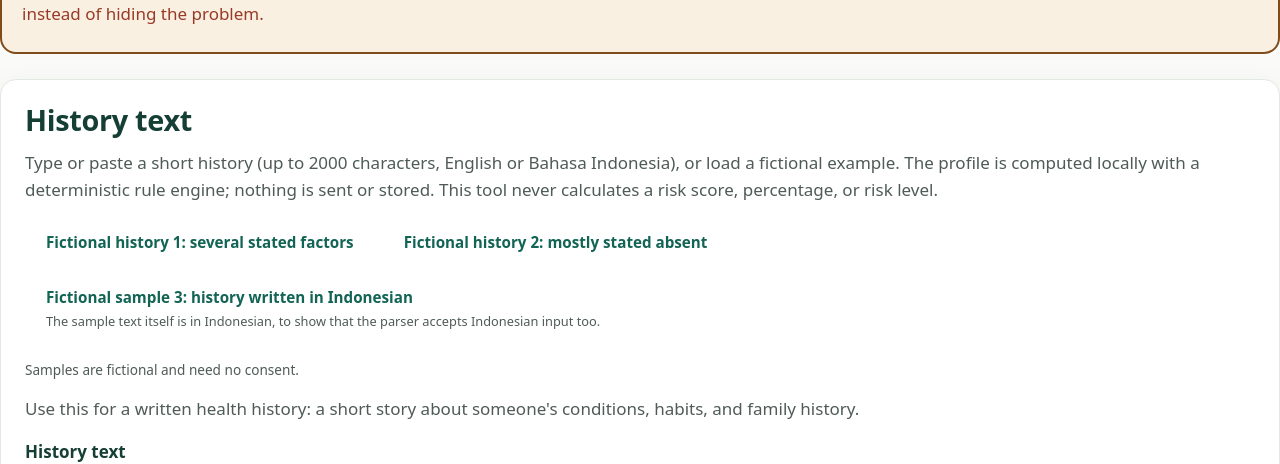
Test case: RiskExtractor page › never shows a risk score
This screenshot has width=1280, height=464.
(page scrolled)
Click the button "Fictional history 2: mostly stated absent".
click(556, 243)  # box [383,220,728,266]
(page scrolled)
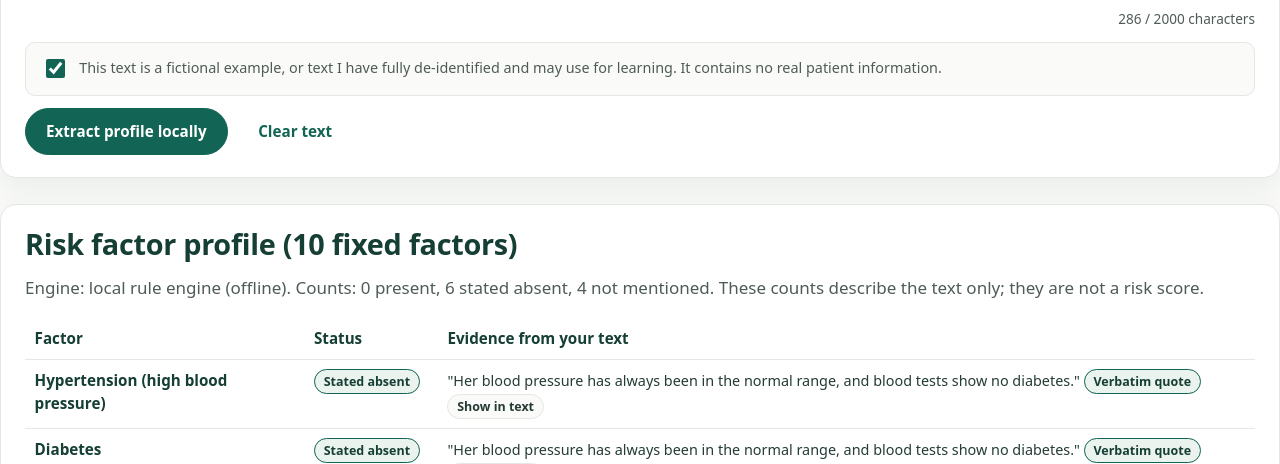
Result: the heading "Risk factor profile (10 fixed factors)" is shown at [25,224,517,263]
